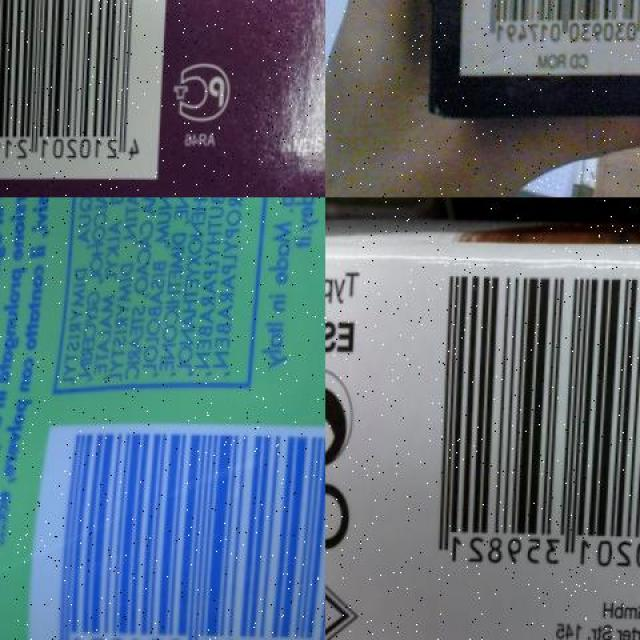Barcode: (413, 267, 640, 589), (29, 421, 326, 640), (0, 0, 171, 179), (461, 0, 640, 79)
